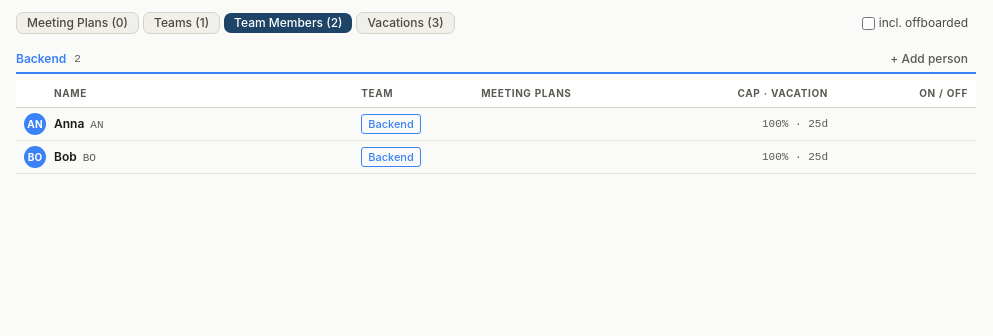
Test: Vacation filter › narrows by member filter
The width and height of the screenshot is (993, 336).
Click the button "Vacations (3)". click: [406, 23]
box: 356,12 -> 455,34
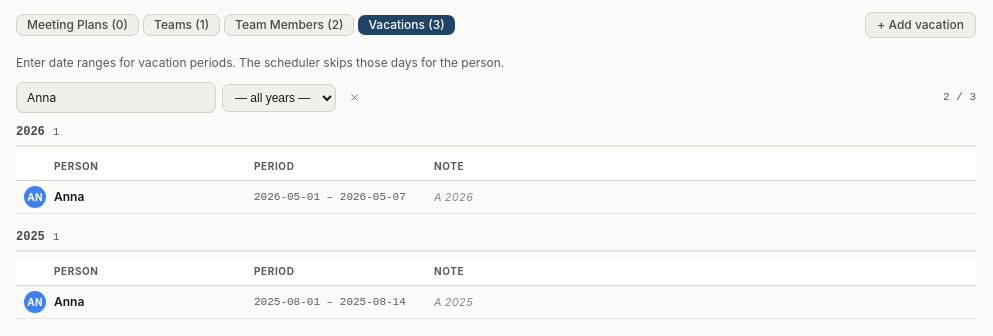
Expected: the text "A 2025" is shown, 426,286 -> 976,318
Expected: the text "A 2026" is shown, 426,180 -> 976,214
